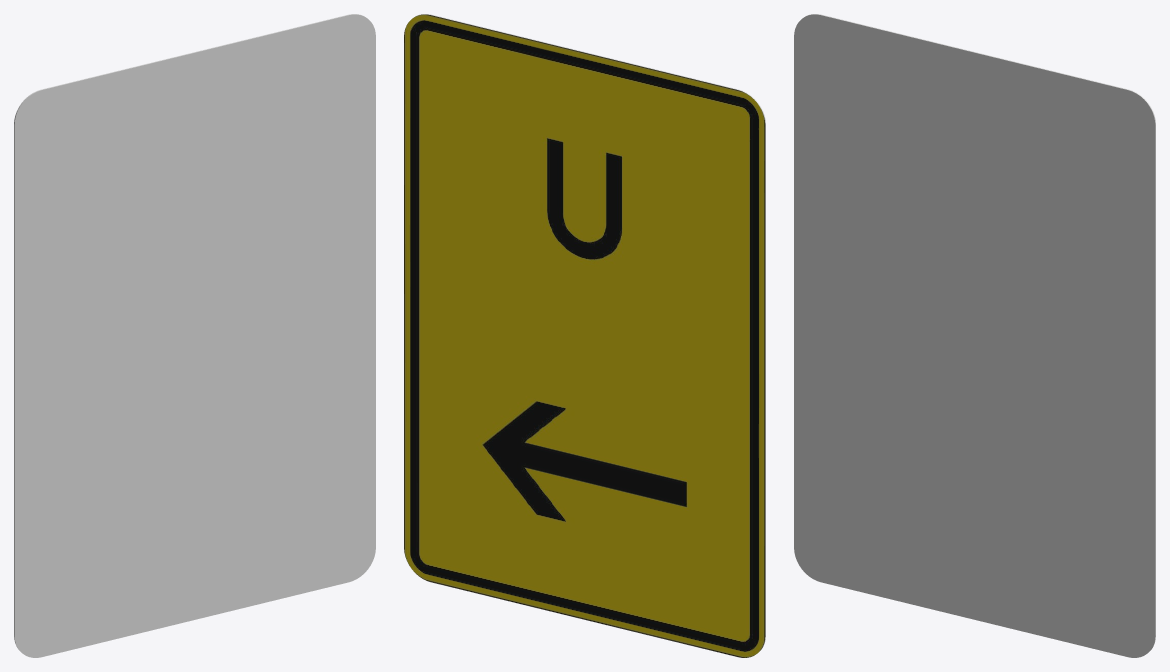
3 renders of one model, left to right at view 1: azimuth 30°, elevation 25°; view 2: azimuth 150°, elevation 25°; view 3: azimuth 330°, elevation 25°, orthographic.
Visible parts, largest first — view 1: Plane; view 2: Plane; view 3: Plane.
Part boxes in pixels (bbox=[...]): Plane: bbox=[14, 14, 375, 657]; Plane: bbox=[404, 14, 765, 657]; Plane: bbox=[794, 14, 1155, 657].
Bounding box in the file's own units: 0.6 × 0.9 × 0.002.
Materials: 2 (1 with a texture image).
